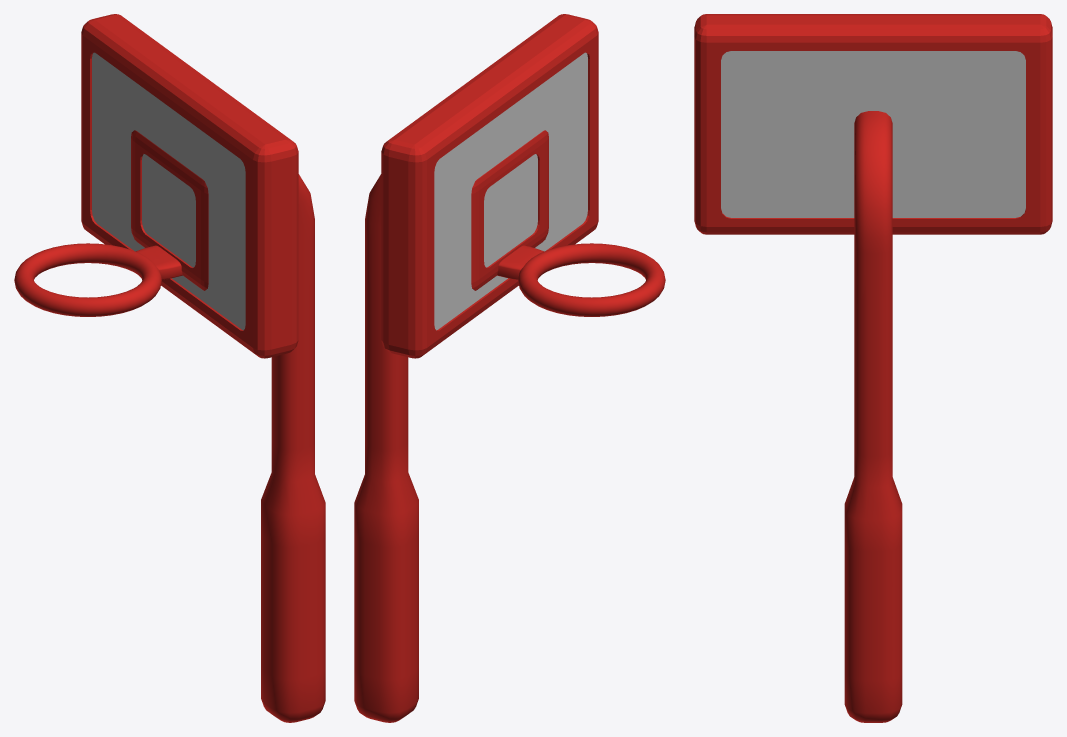
The model's file is basket.fbx.
3 renders of one model, left to right at view 1: azimuth 30°, elevation 25°; view 2: azimuth 150°, elevation 25°; view 3: azimuth 270°, elevation 25°, orthographic. The views are drawn at different scales.
Parts seen in each view (by area): view 1: Basket; view 2: Basket; view 3: Basket.
Part boxes in pixels (x1,y1,x2,y2): Basket: (14,14,325,722); Basket: (354,14,665,722); Basket: (694,14,1052,722).
Size of the model in its own units: 346 by 741 by 371.
